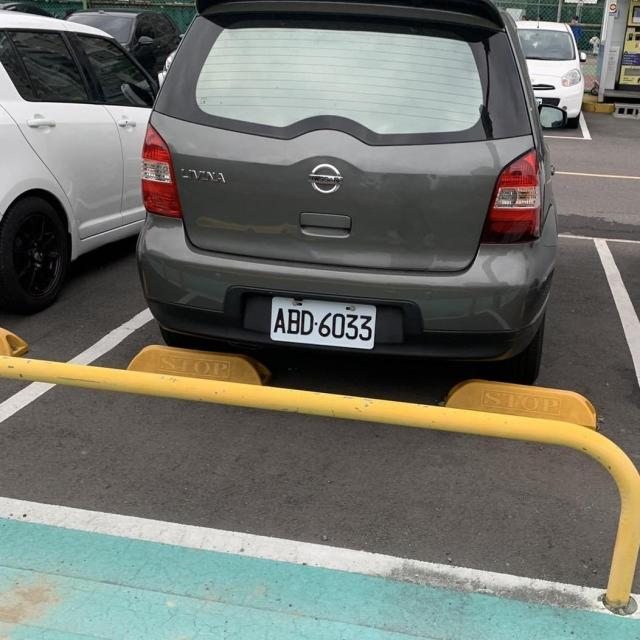W: (257, 288, 383, 356)
